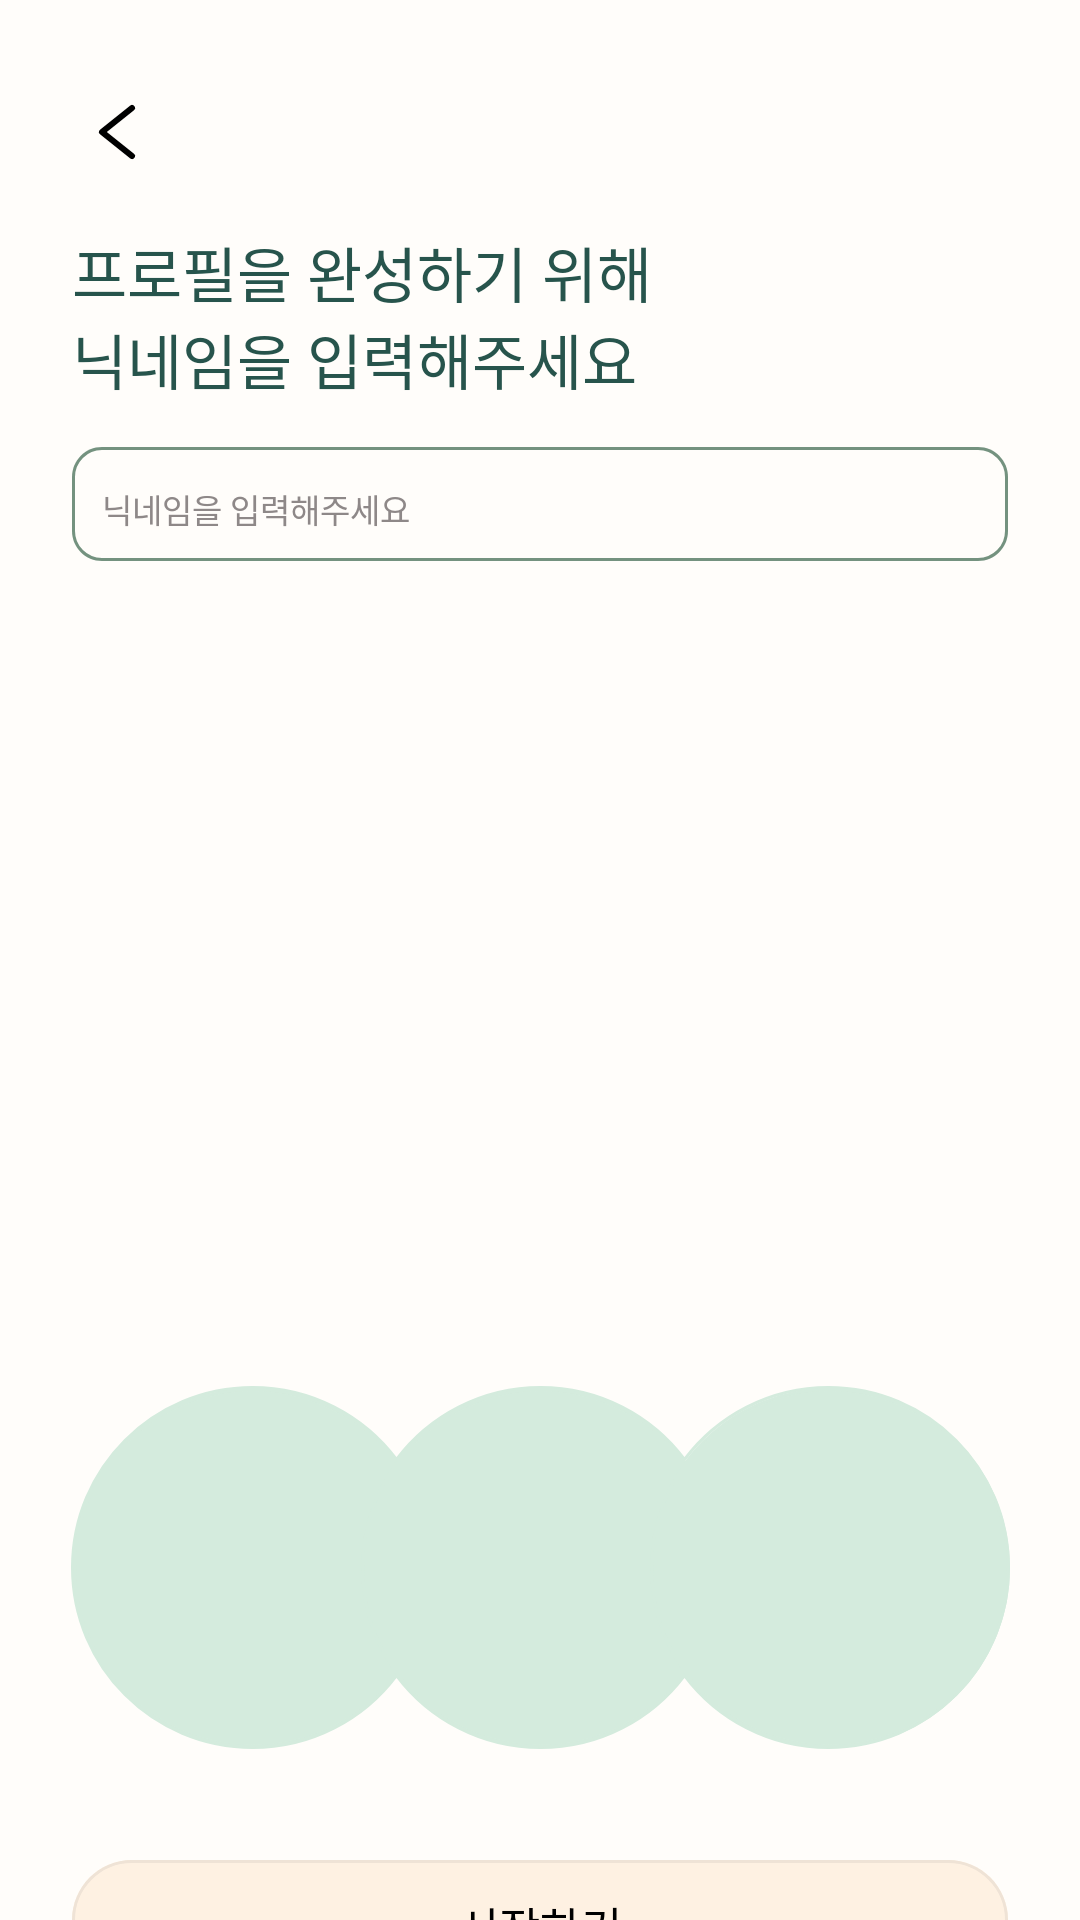

Named icons in this screenshot (1080 × 1920) and their bounding boxes, (x1, y1, x2, y2):
back: (98, 105, 136, 159)
